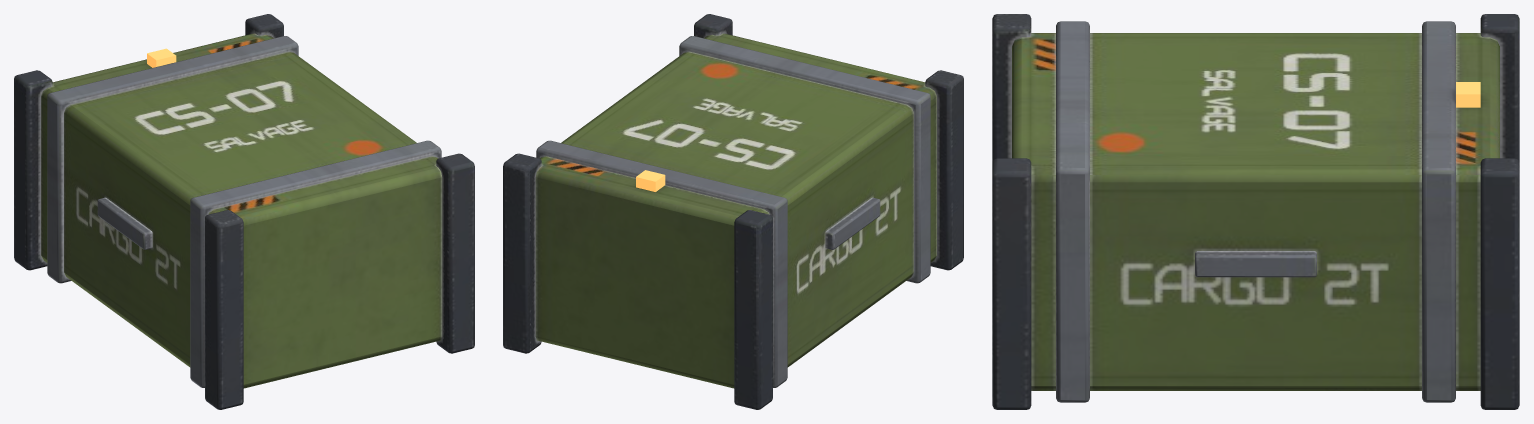
File: loot_crate.glb
3 renders of one model, left to right at view 1: azimuth 30°, elevation 25°; view 2: azimuth 150°, elevation 25°; view 3: azimuth 270°, elevation 25°, orthographic. The views are drawn at different scales.
Visible parts, largest first — view 1: loot_crate, Glow; view 2: loot_crate, Glow; view 3: loot_crate, Glow.
Boxes of the visible parts, box(x1,y1,x2,y2) form: loot_crate: box(14, 14, 474, 409); Glow: box(147, 48, 176, 67); loot_crate: box(503, 14, 963, 409); Glow: box(636, 170, 665, 191); loot_crate: box(992, 14, 1519, 409); Glow: box(1456, 82, 1480, 107).
Size of the model in its own units: 1.56 by 1.1 by 2.16.
Materials: 2 (1 with a texture image).
